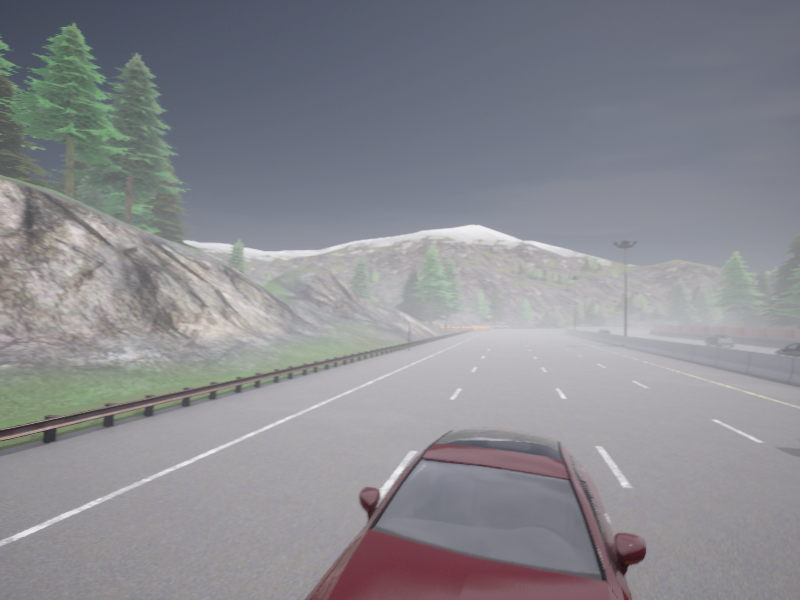vehicle: (305, 427, 646, 599), (773, 343, 799, 356), (705, 334, 733, 346), (597, 329, 610, 333)
